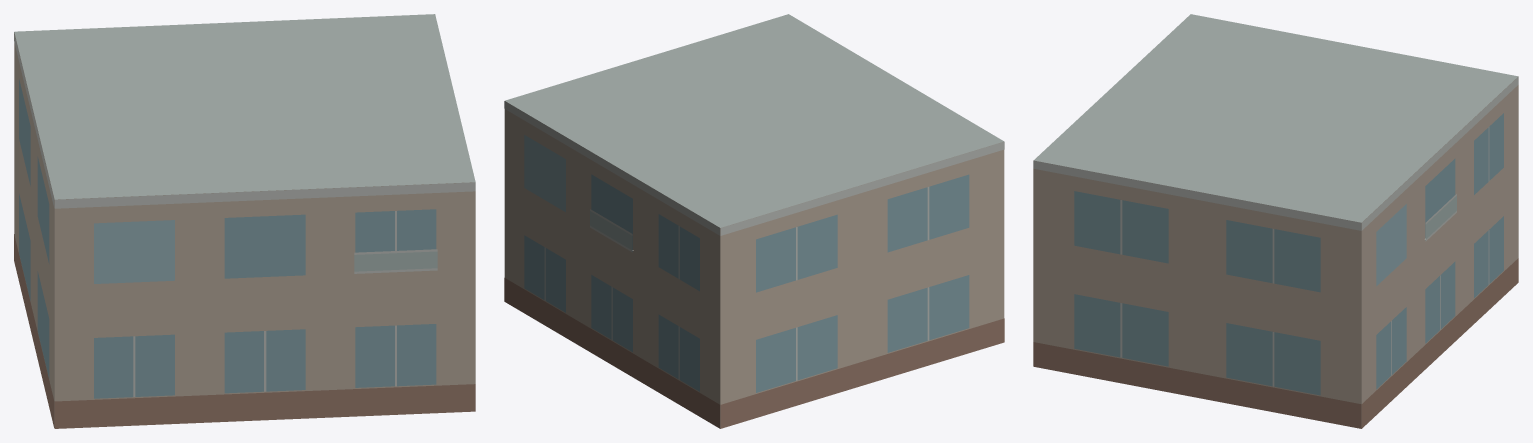
File: survey-upis-32805289.glb
3 views of the same model, side by side, from view 1: azimuth 30°, elevation 25°; view 2: azimuth 150°, elevation 25°; view 3: azimuth 270°, elevation 25° (orthographic). The views are drawn at different scales.
Parts seen in each view (by area): view 1: survey-upis-32805289.tmp; view 2: survey-upis-32805289.tmp; view 3: survey-upis-32805289.tmp.
Part boxes in pixels (left/top/right/bottom): survey-upis-32805289.tmp: left=14, top=14, right=475, bottom=428; survey-upis-32805289.tmp: left=504, top=14, right=1004, bottom=428; survey-upis-32805289.tmp: left=1033, top=14, right=1518, bottom=428.
Bounding box in the file's own units: 13.25 × 6.1 × 13.02.
